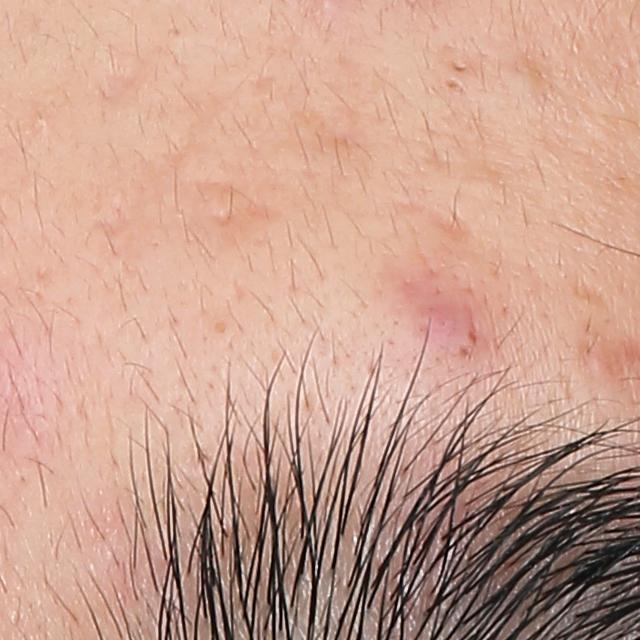atrophic_scar: (571, 274, 614, 323), (434, 204, 476, 246)
comedo: (209, 319, 228, 334)
